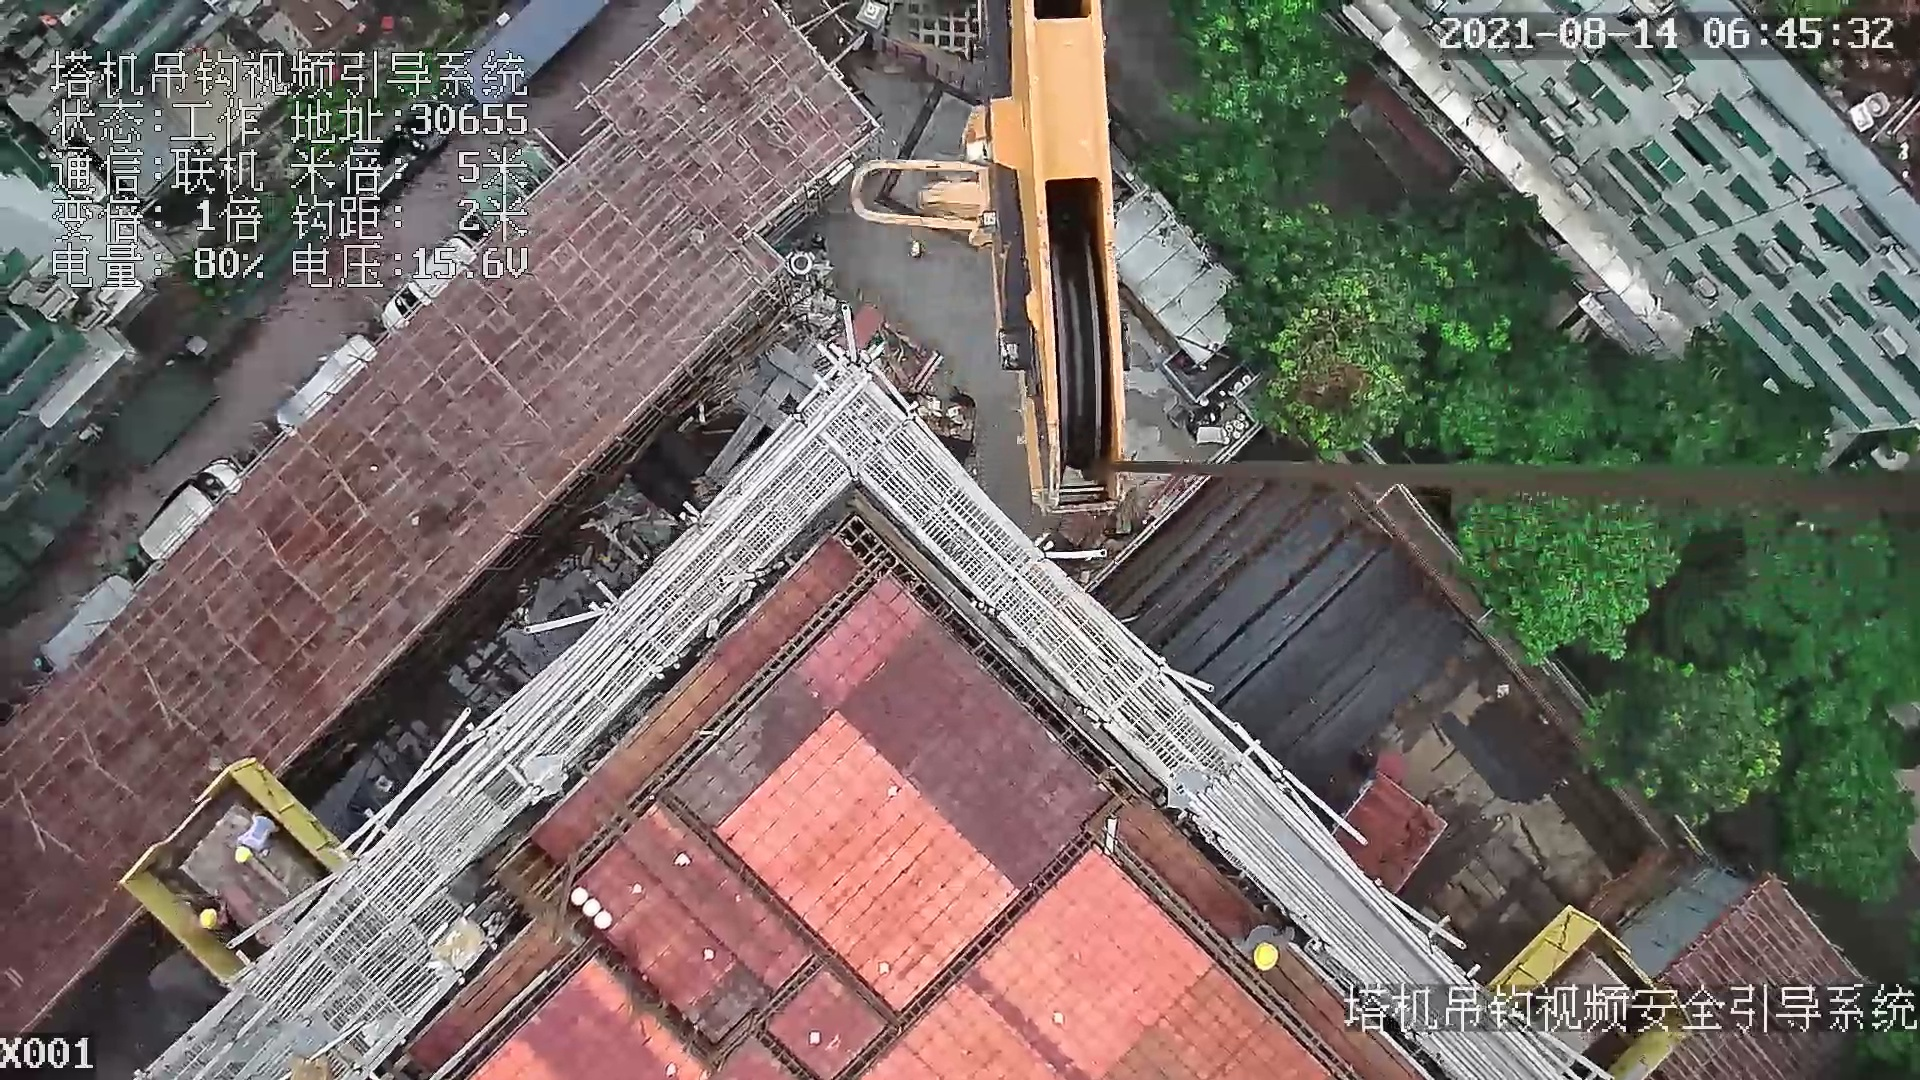helmet: (1255, 942, 1284, 972), (201, 909, 221, 926), (234, 849, 254, 864)
person: (1228, 915, 1317, 980), (235, 815, 278, 864), (187, 897, 229, 928)
